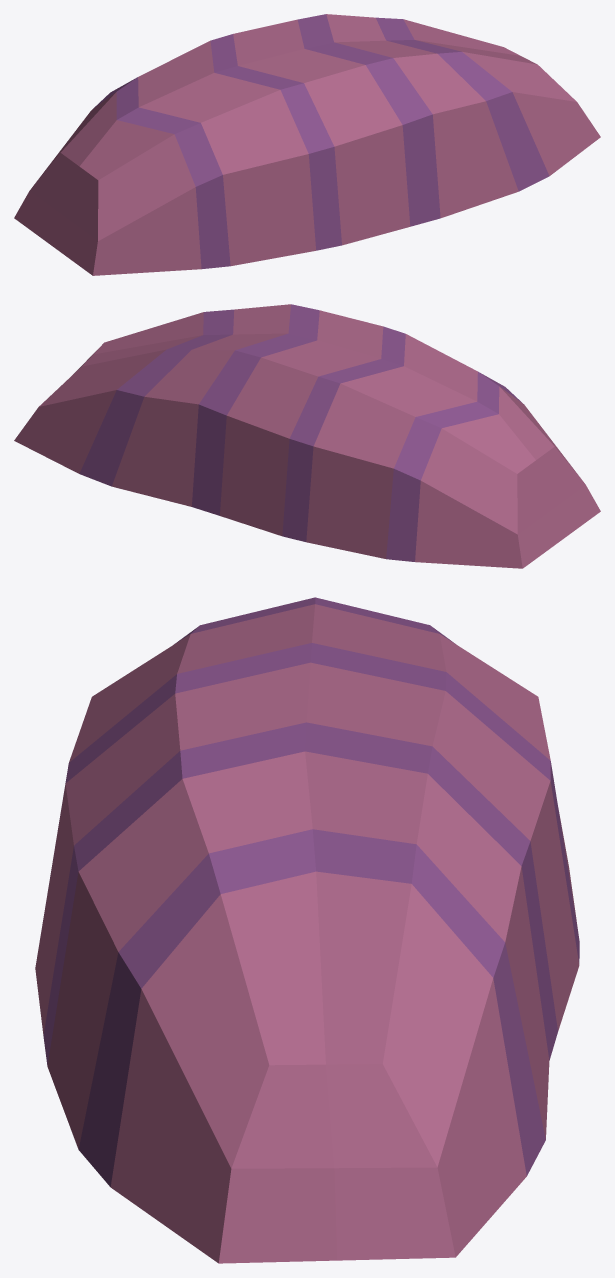
File: quaternius-ultimate-food-sashimi-salmon-2.glb
The picture shows the model from 3 angles, top to bottom: view 1: azimuth 30°, elevation 25°; view 2: azimuth 150°, elevation 25°; view 3: azimuth 270°, elevation 25°; orthographic projection. The views are drawn at different scales.
Visible parts, largest first — view 1: Salmon2; view 2: Salmon2; view 3: Salmon2.
Boxes of the visible parts, <box> form: Salmon2: <box>14,14,600,275</box>; Salmon2: <box>14,304,600,568</box>; Salmon2: <box>35,597,579,1263</box>.
Bounding box in the file's own units: 0.5976 × 0.1518 × 0.2715.
